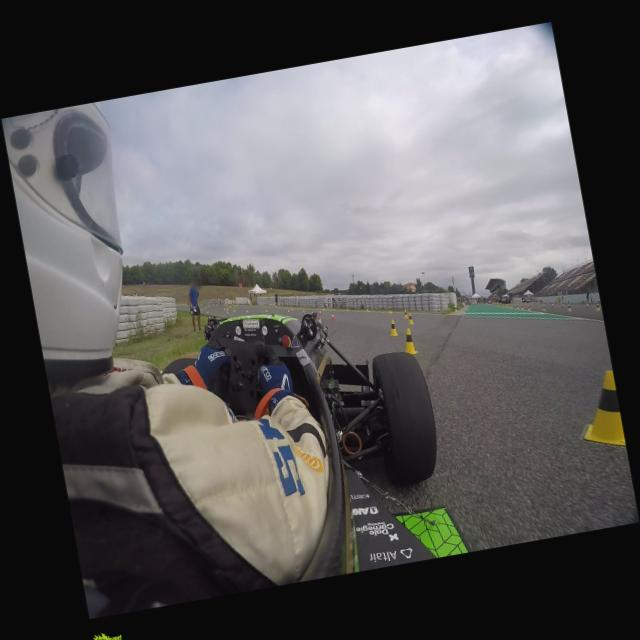orange_cone: (330, 312, 334, 321), (318, 316, 322, 324), (318, 310, 322, 316), (286, 310, 290, 316), (301, 310, 305, 314)
yellow_cone: (576, 370, 625, 451), (398, 327, 418, 355), (386, 319, 398, 336), (406, 314, 414, 324), (402, 310, 408, 318), (387, 306, 392, 314), (566, 303, 571, 311), (541, 304, 546, 312), (594, 304, 600, 310), (364, 306, 368, 312), (526, 304, 530, 310), (520, 304, 524, 310), (264, 306, 267, 312), (290, 306, 293, 311), (346, 306, 348, 310), (322, 306, 324, 310)
